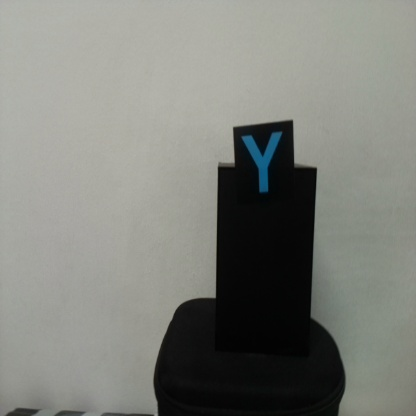id_14: (233, 127, 295, 206)
